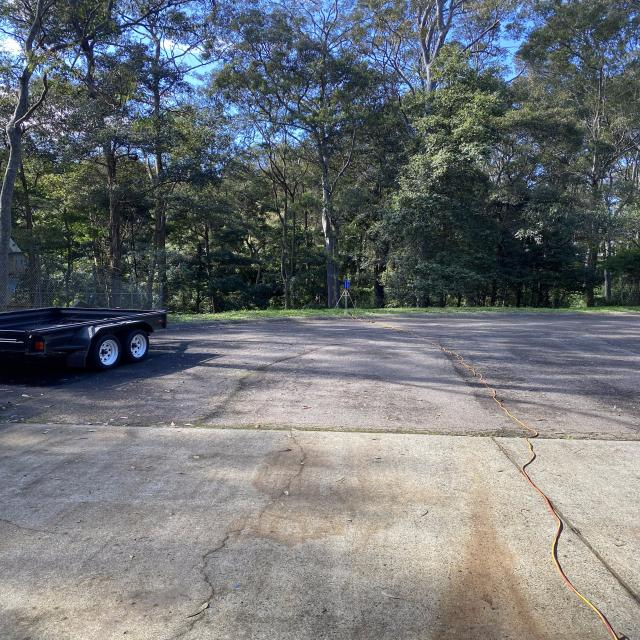matrix: (344, 281, 350, 288)
